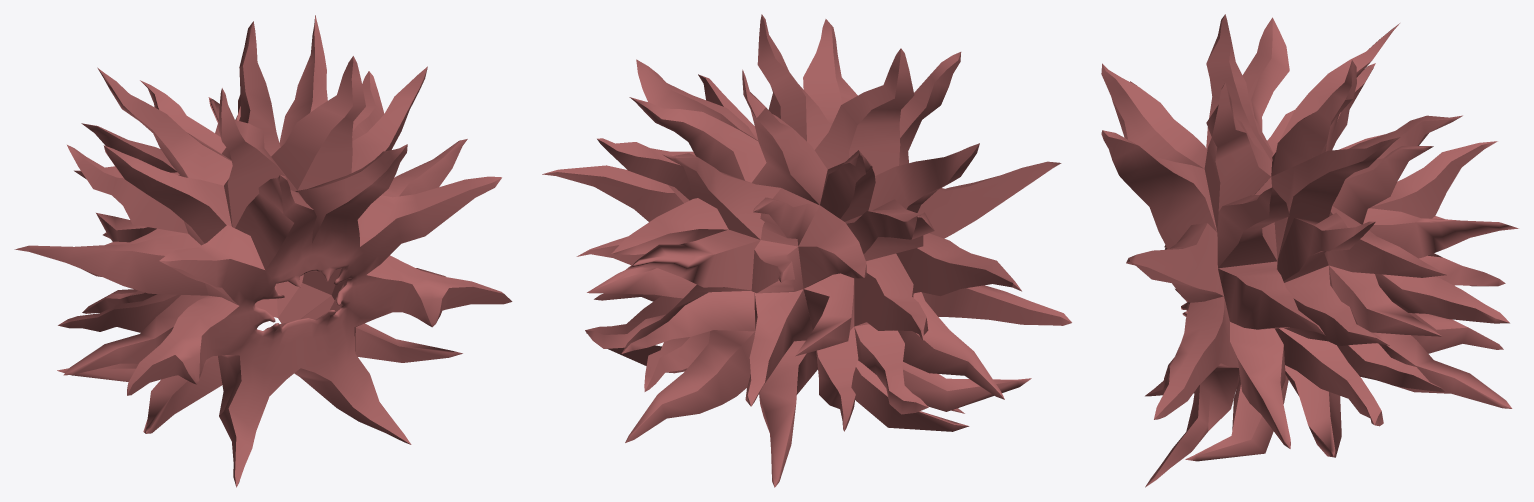
File: GoblinHelmetLowPolyFinal.fbx
The picture shows the model from 3 angles, left to right: view 1: azimuth 30°, elevation 25°; view 2: azimuth 150°, elevation 25°; view 3: azimuth 270°, elevation 25°; orthographic projection. The views are drawn at different scales.
Parts seen in each view (by area): view 1: GoblinHelmet2; view 2: GoblinHelmet2; view 3: GoblinHelmet2.
Boxes of the visible parts, x1,y1,x2,y2 form: GoblinHelmet2: (14, 15, 512, 487); GoblinHelmet2: (542, 14, 1071, 487); GoblinHelmet2: (1101, 14, 1518, 487).
Bounding box in the file's own units: 10.18 × 7.91 × 7.57.
